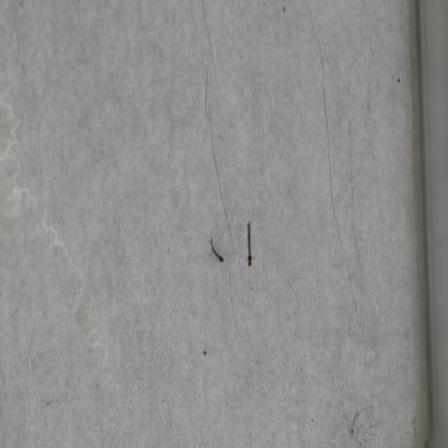Jentik-Nyamuk: (243, 219, 257, 269), (209, 234, 228, 265)
